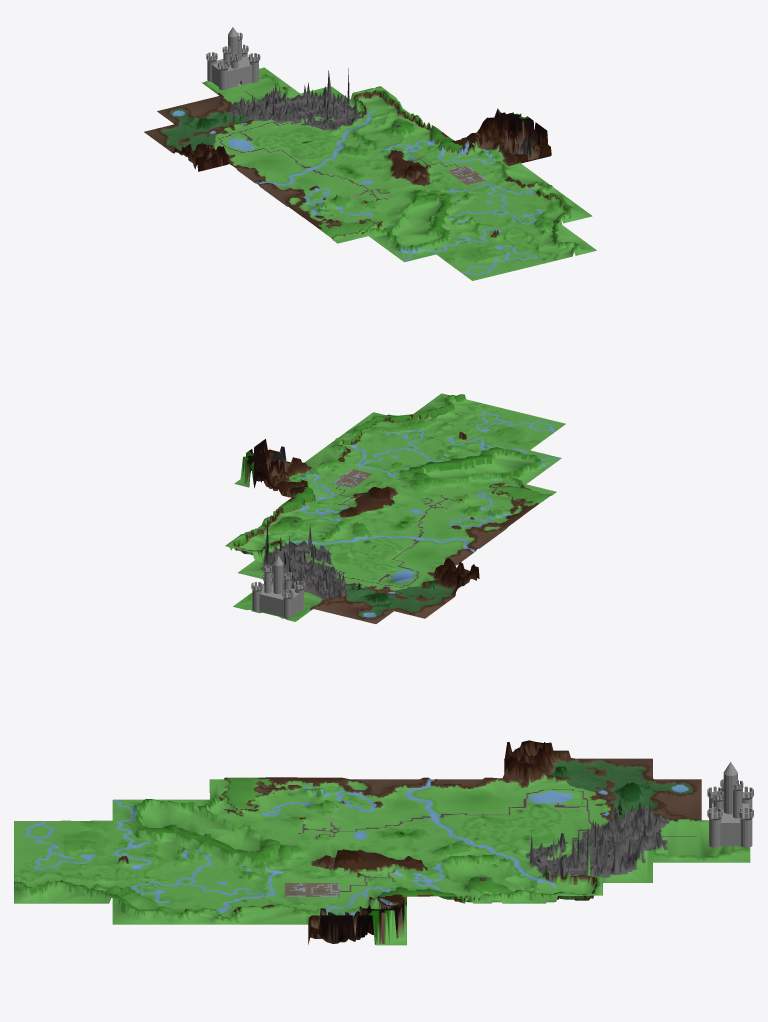
File: terrain.obj
The picture shows the model from 3 angles, top to bottom: view 1: azimuth 30°, elevation 25°; view 2: azimuth 150°, elevation 25°; view 3: azimuth 270°, elevation 25°; orthographic projection. The views are drawn at different scales.
Visible parts, largest first — view 1: Plane001, default001; view 2: Plane001, default001; view 3: Plane001, default001.
Boxes of the visible parts, x1,y1,x2,y2 form: Plane001: [144, 67, 596, 280]; default001: [206, 27, 260, 90]; Plane001: [225, 393, 565, 623]; default001: [251, 556, 305, 618]; Plane001: [14, 740, 750, 945]; default001: [707, 762, 753, 847].
Size of the model in its own units: 1700 by 192 by 1709.
